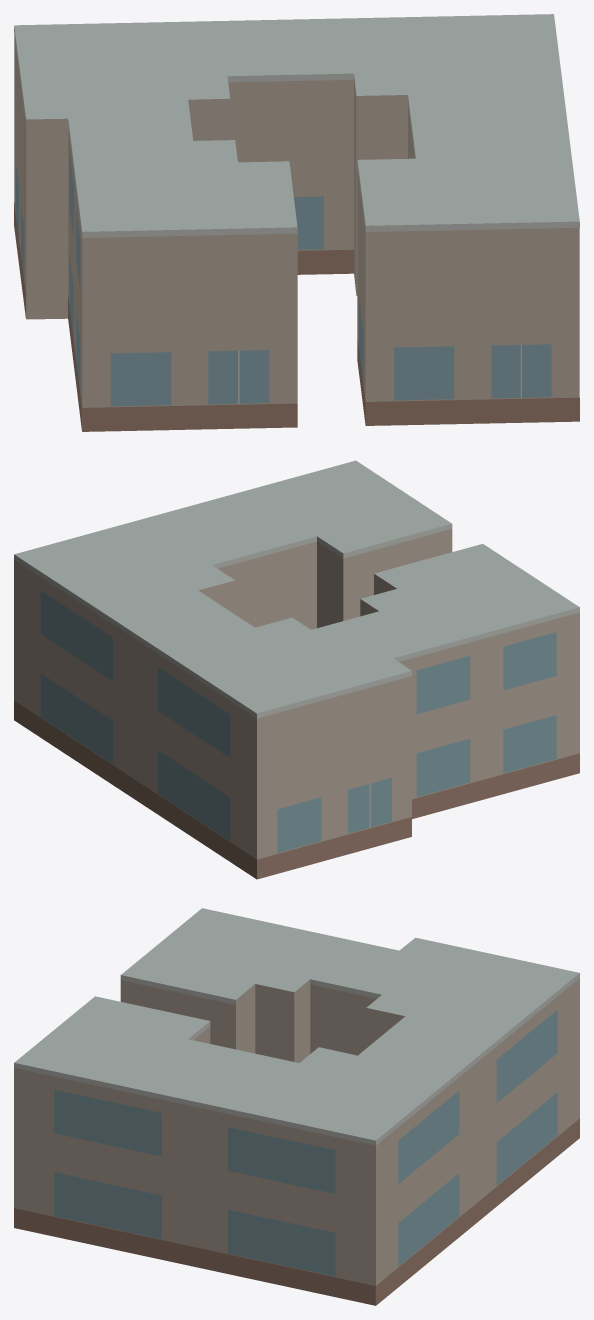
The model's file is survey-upis-32840060.glb.
3 views of the same model, one above another, from view 1: azimuth 30°, elevation 25°; view 2: azimuth 150°, elevation 25°; view 3: azimuth 270°, elevation 25° (orthographic). The views are drawn at different scales.
Visible parts, largest first — view 1: survey-upis-32840060.tmp; view 2: survey-upis-32840060.tmp; view 3: survey-upis-32840060.tmp.
Boxes of the visible parts, x1,y1,x2,y2 form: survey-upis-32840060.tmp: (14,14,579,431); survey-upis-32840060.tmp: (14,460,579,879); survey-upis-32840060.tmp: (14,908,579,1305).
Bounding box in the file's own units: 23.92 × 7.92 × 24.59.
